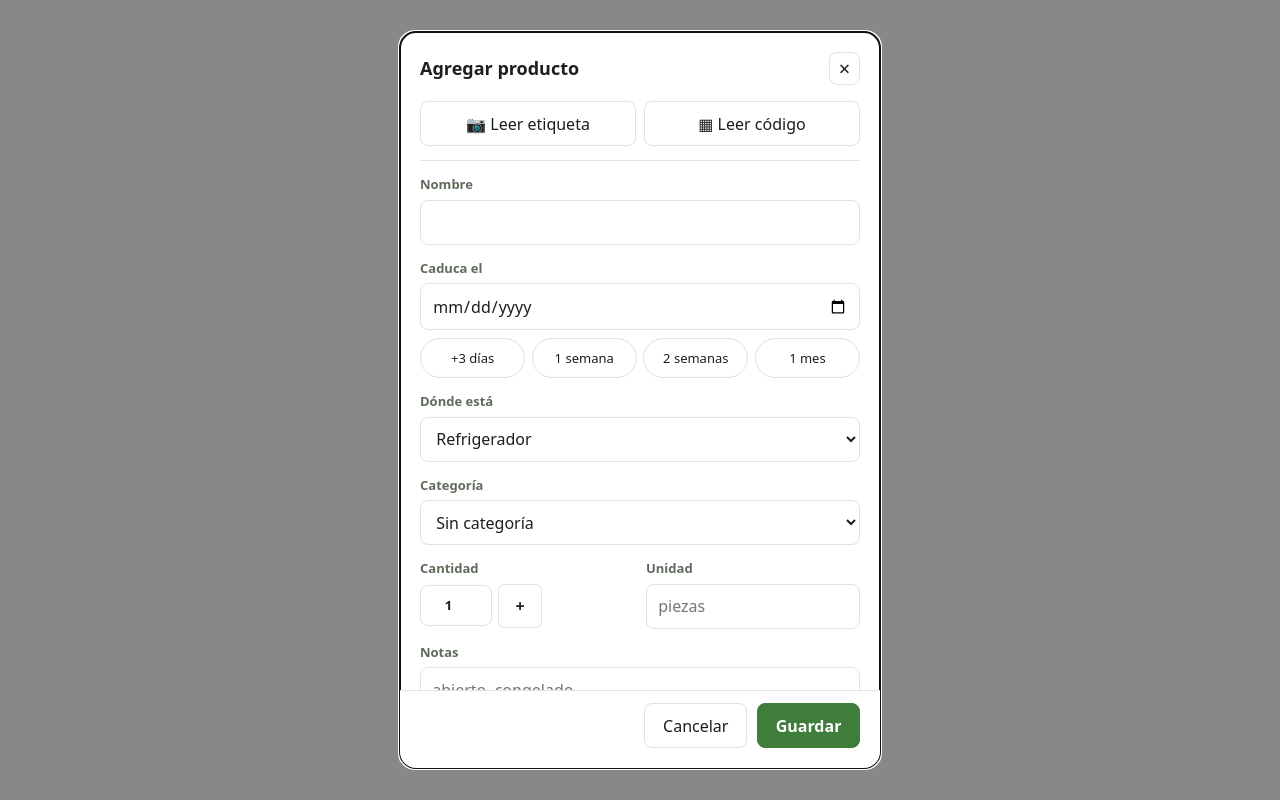
Scenario: ProductForm duplicate check › shows the three-way choice instead of saving, when the name matches an active product created today
The width and height of the screenshot is (1280, 800).
Type "Nopal limpio" into the field labelled "Nombre" at {"x": 640, "y": 222}, box [420, 200, 860, 245]
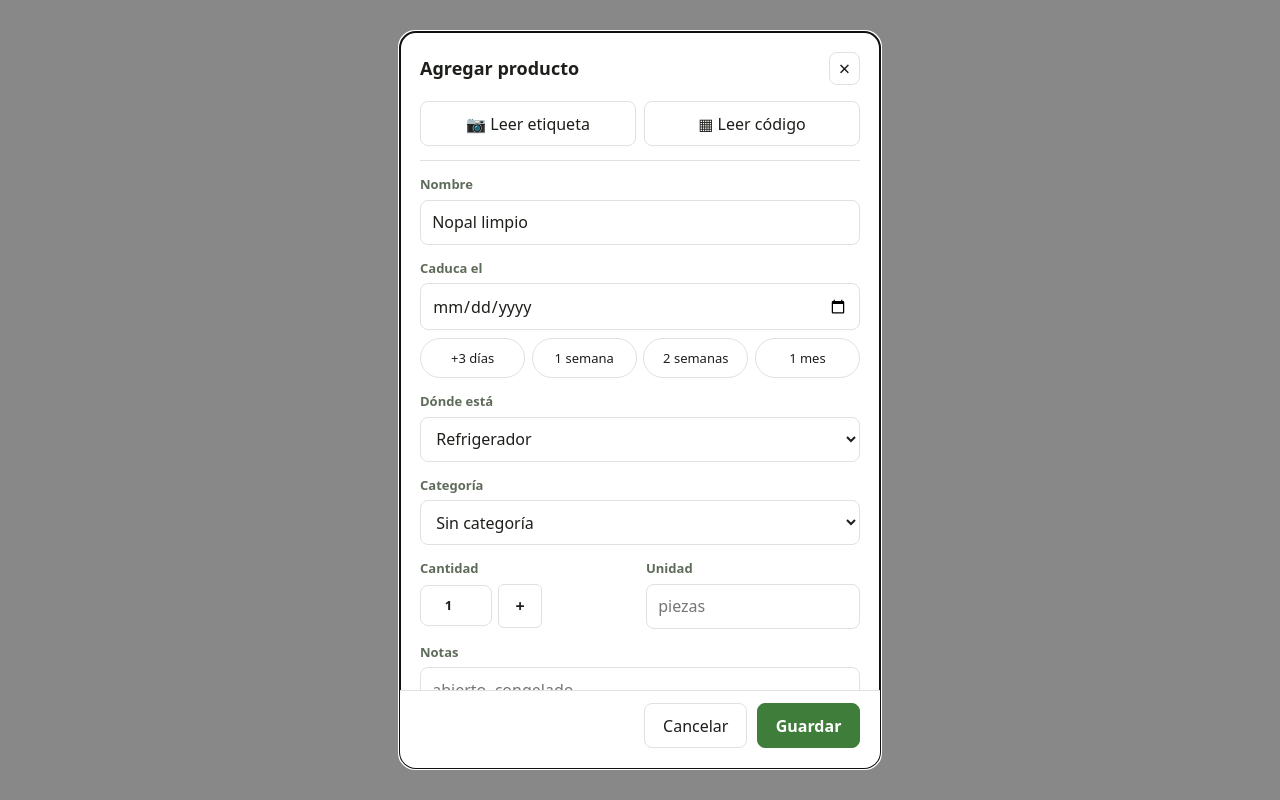
Type "2026-09-01" into the date field labelled "Caduca el" at {"x": 640, "y": 307}, box [420, 283, 860, 330]
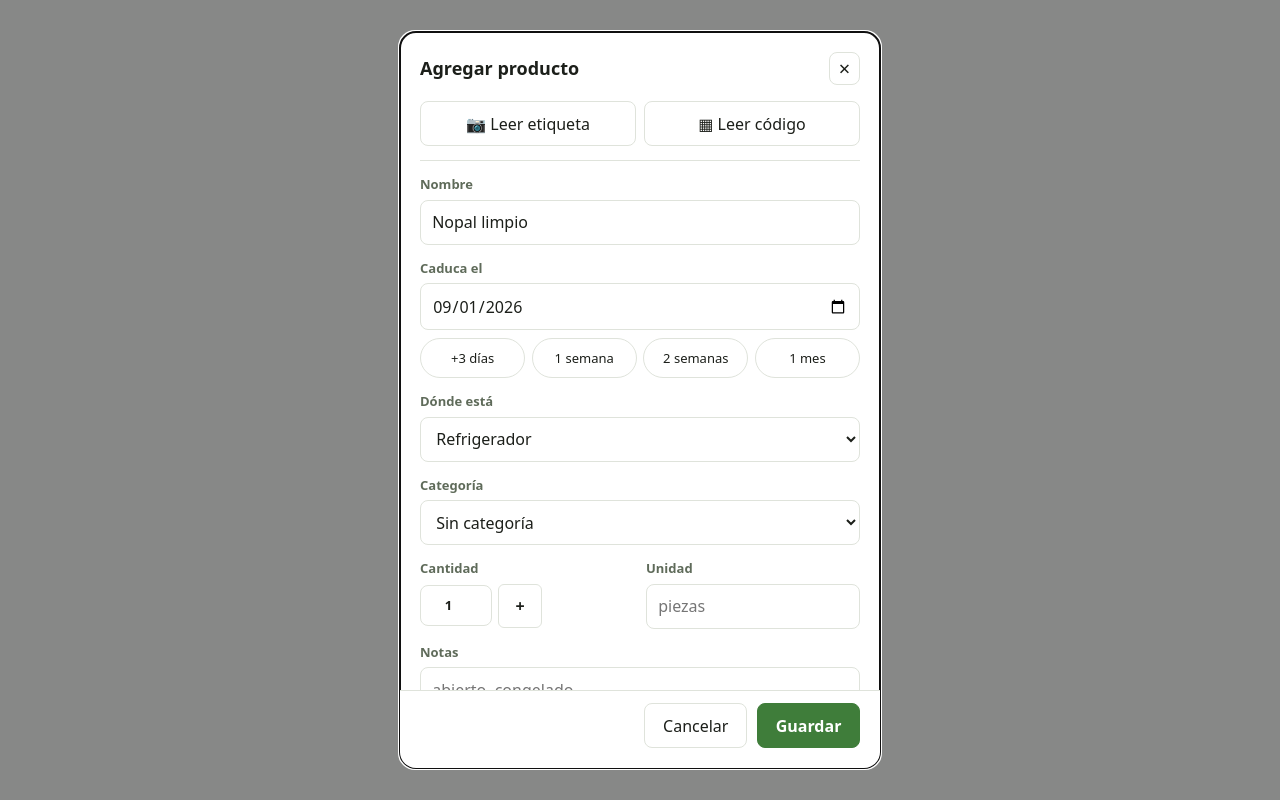
Click the button "Guardar" at {"x": 808, "y": 725}, box [757, 703, 860, 748]
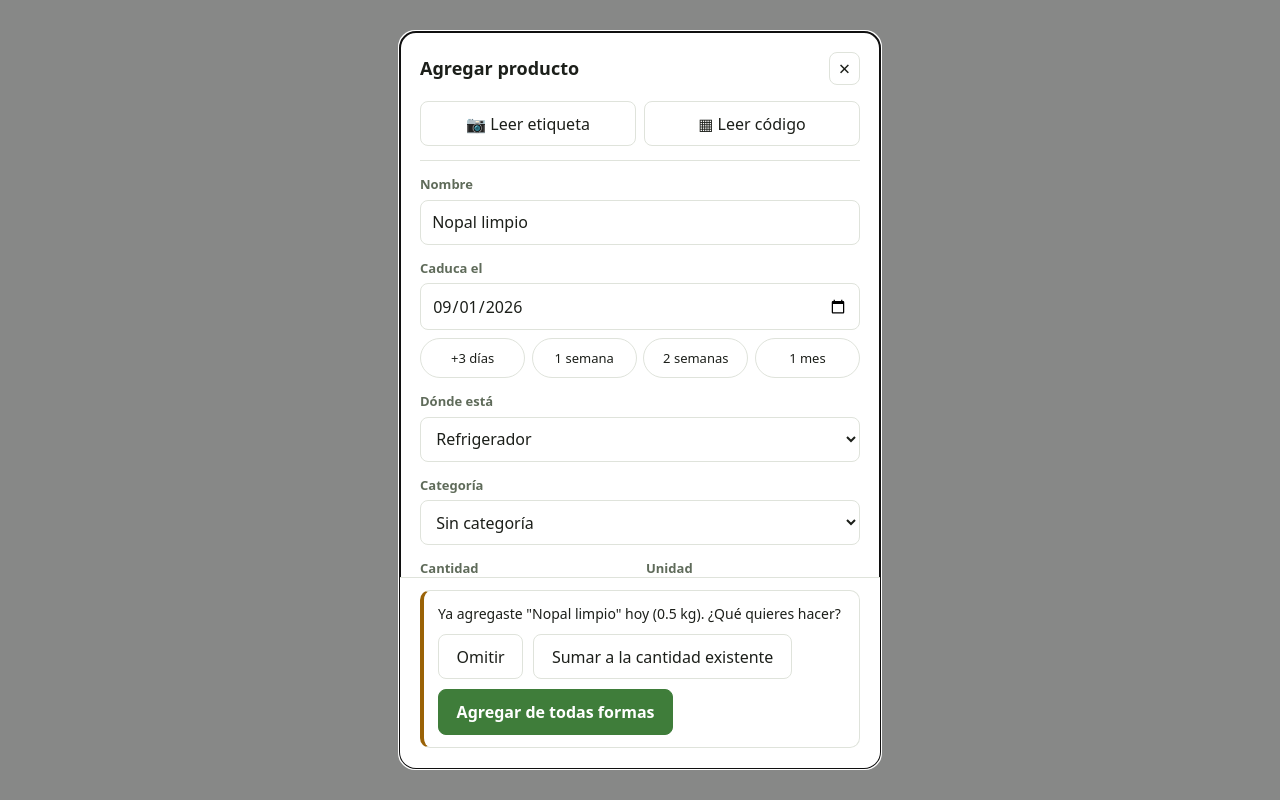
Check: the message shows "Ya agregaste \"Nopal limpio\" hoy (0.5 kg)", box [420, 591, 860, 748]
Check: the button "Agregar de todas formas" is shown, box [438, 690, 673, 735]
Check: the button "Sumar a la cantidad existente" is shown, box [533, 635, 792, 680]
